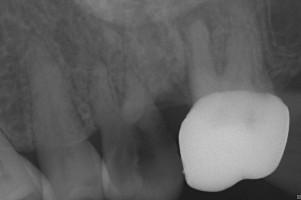Furcation Involvement: (175, 2, 214, 44)
